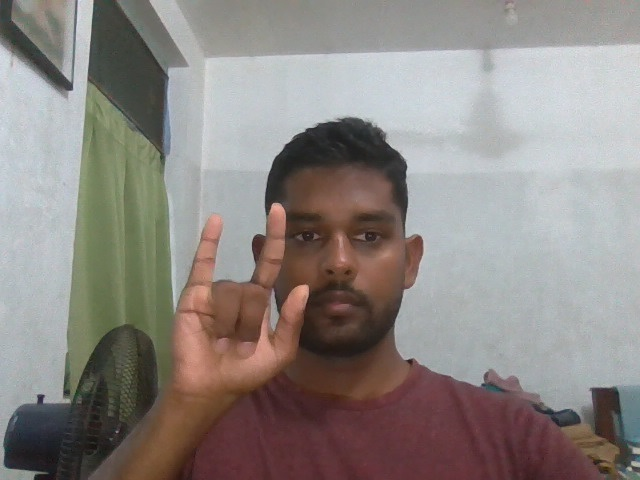hello: (136, 194, 316, 416)
